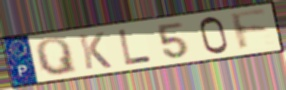0: (198, 15, 229, 56)
5: (155, 20, 193, 59)
F: (228, 8, 272, 53)
K: (76, 31, 114, 71)
L: (117, 28, 154, 66)
Q: (34, 36, 80, 77)
